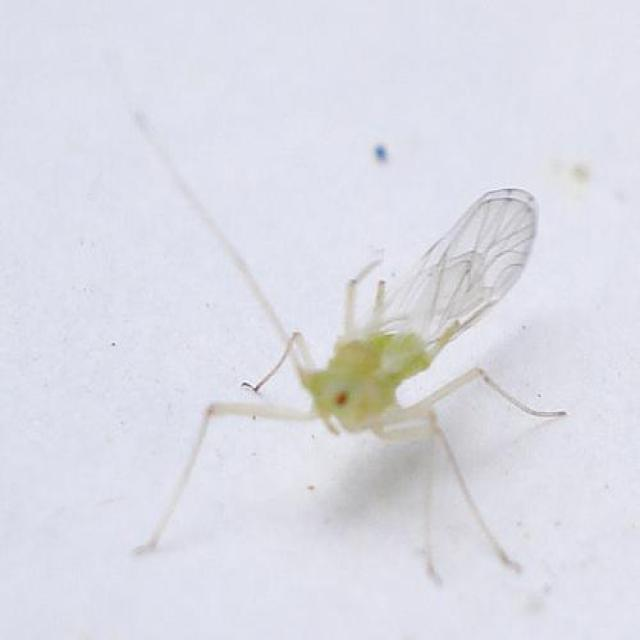Aphids: (110, 126, 605, 599)
